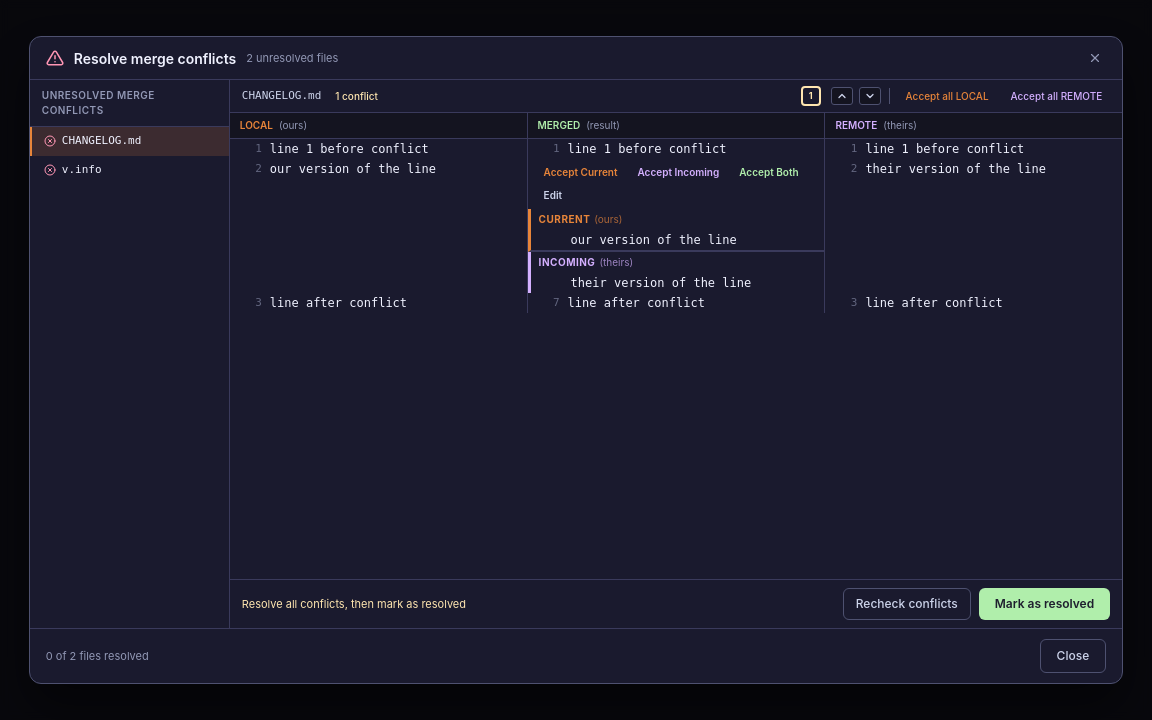
Test: MergeConflictDialog › resolves conflict by clicking Accept Both
The image size is (1152, 720).
Click the button "Accept Both". click: (769, 172)
box: [731,163,806,182]
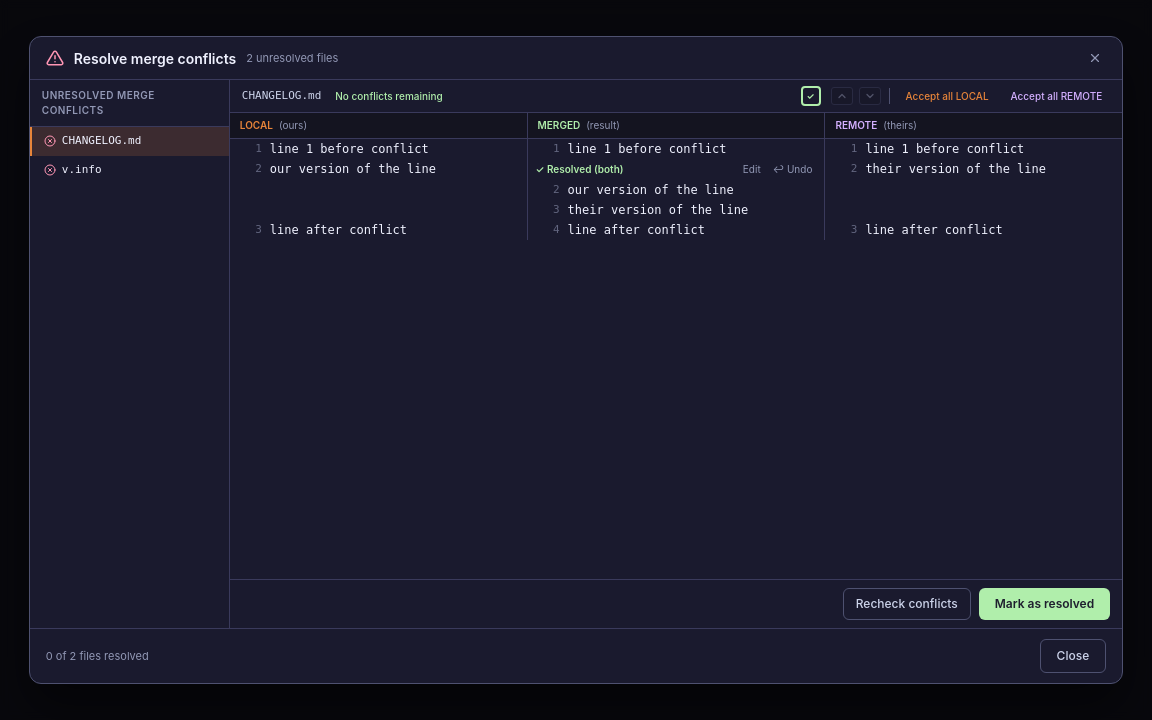
Check: the text "No conflicts remaining" is shown, box [329,88,449,104]
